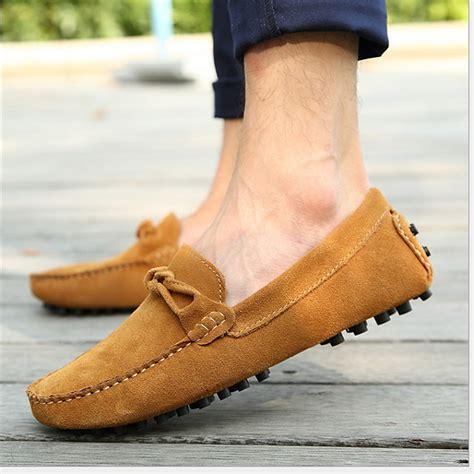gamuza: (27, 186, 433, 429)
